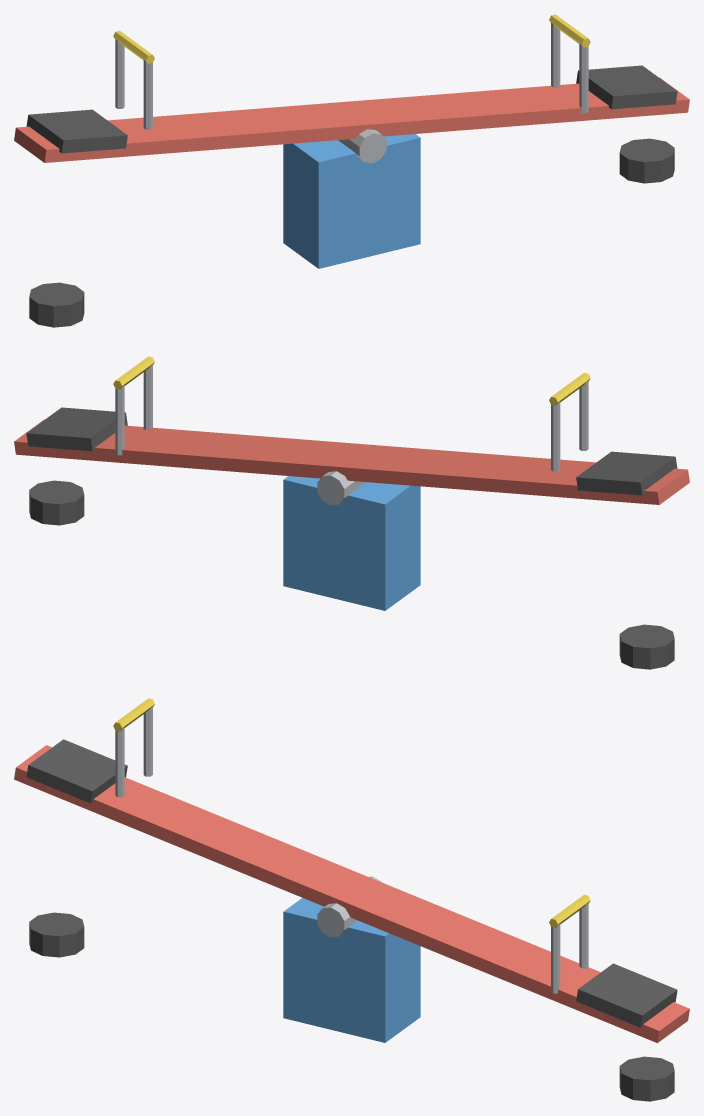
File: seesaw.glb
3 renders of one model, top to bottom at view 1: azimuth 30°, elevation 25°; view 2: azimuth 150°, elevation 25°; view 3: azimuth 330°, elevation 25°, orthographic.
Visible parts, largest first — view 1: model; view 2: model; view 3: model.
Boxes of the visible parts, bbox=[...] form: model: bbox=[14, 14, 689, 327]; model: bbox=[14, 356, 689, 669]; model: bbox=[14, 698, 689, 1101].
Bounding box in the file's own units: 3.17 × 1.19 × 0.36.
